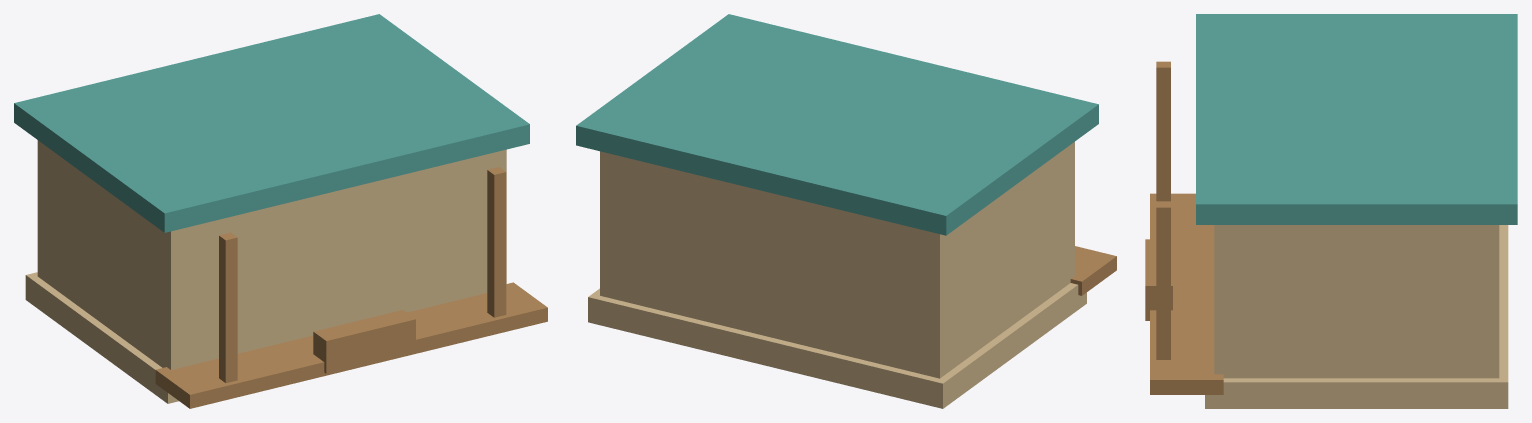
Rendered from WorkerLodge.glb.
3 renders of one model, left to right at view 1: azimuth 30°, elevation 25°; view 2: azimuth 150°, elevation 25°; view 3: azimuth 270°, elevation 25°, orthographic. The views are drawn at different scales.
Visible parts, largest first — view 1: hand-pump-static-lodge-roof, hand-pump-static-lodge-plaster, hand-pump-static-lodge-timber, hand-pump-static-lodge-stone; view 2: hand-pump-static-lodge-plaster, hand-pump-static-lodge-roof, hand-pump-static-lodge-stone, hand-pump-static-lodge-timber; view 3: hand-pump-static-lodge-roof, hand-pump-static-lodge-plaster, hand-pump-static-lodge-timber, hand-pump-static-lodge-stone.
Part boxes in pixels (<box>): hand-pump-static-lodge-roof: <box>14,14,529,232</box>; hand-pump-static-lodge-plaster: <box>37,140,506,369</box>; hand-pump-static-lodge-timber: <box>155,167,547,408</box>; hand-pump-static-lodge-stone: <box>25,272,178,403</box>; hand-pump-static-lodge-plaster: <box>600,142,1074,378</box>; hand-pump-static-lodge-roof: <box>576,14,1098,235</box>; hand-pump-static-lodge-stone: <box>588,283,1086,408</box>; hand-pump-static-lodge-timber: <box>1070,246,1116,295</box>; hand-pump-static-lodge-roof: <box>1196,14,1517,224</box>; hand-pump-static-lodge-plaster: <box>1214,225,1499,378</box>; hand-pump-static-lodge-timber: <box>1145,61,1223,394</box>; hand-pump-static-lodge-stone: <box>1205,225,1508,408</box>.
Bounding box in the file's own units: 4.9 × 2.51 × 4.05.
